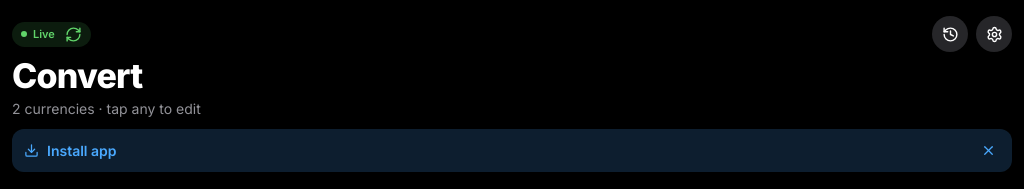
Test case: Header — install banner › hides banner when dismiss button is clicked
The image size is (1024, 189).
Expected: the element with test id "install-banner" is shown, [12,129,1012,172]
Step 1. Click the button named "Dismiss install banner" → [988, 150], box [977,139,1000,162]
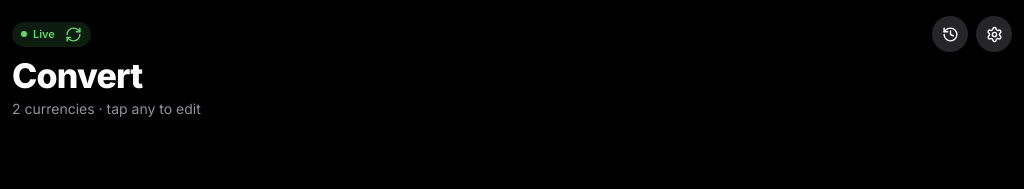
Now the element with test id "install-banner" is gone
